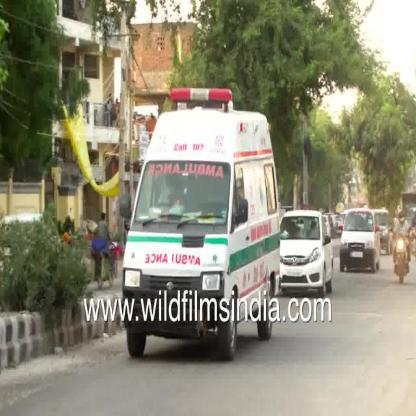priority: (121, 82, 282, 288)
